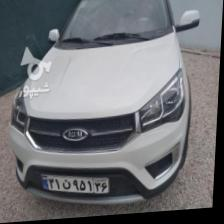plate: (42, 171, 114, 200)
